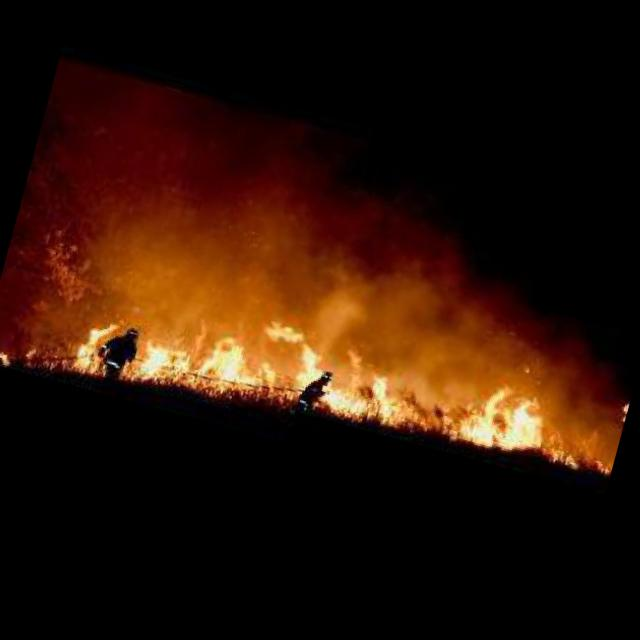fire: (124, 284, 326, 419), (434, 352, 600, 467), (320, 322, 444, 432), (70, 311, 115, 376), (616, 396, 630, 424), (594, 457, 614, 472), (24, 343, 38, 362), (0, 345, 12, 364)
